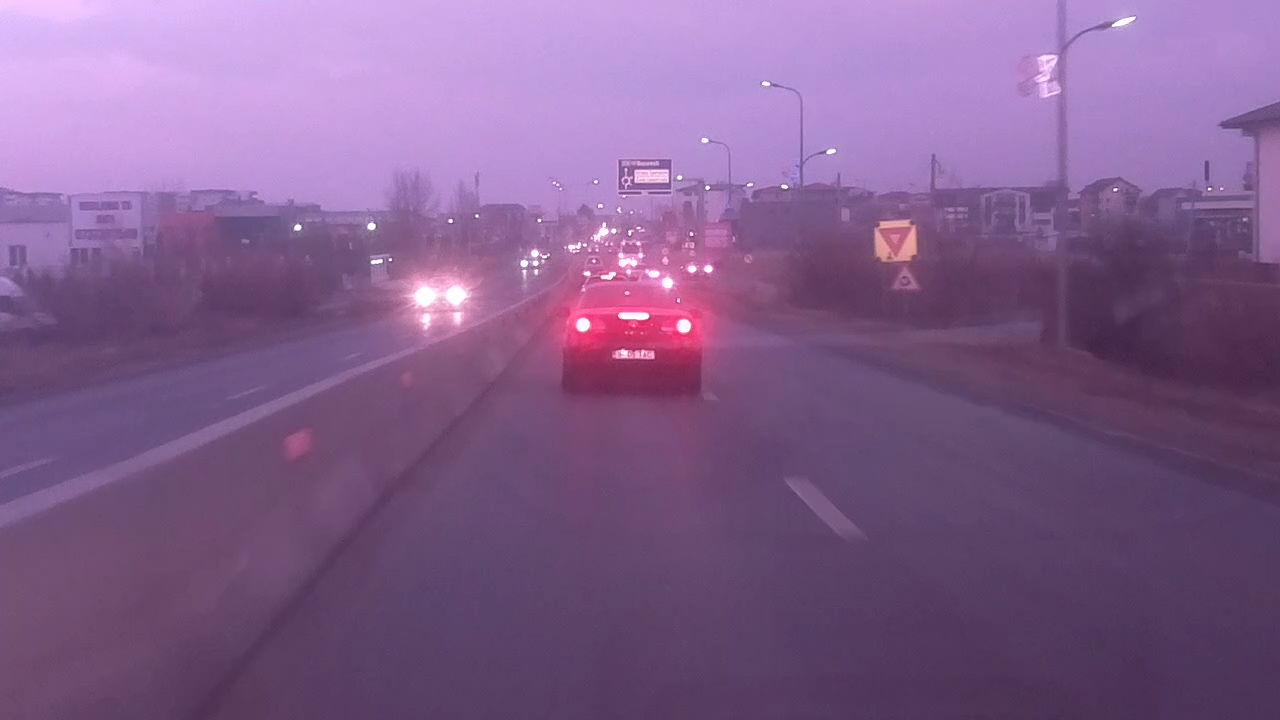license-plate: (610, 346, 656, 361)
